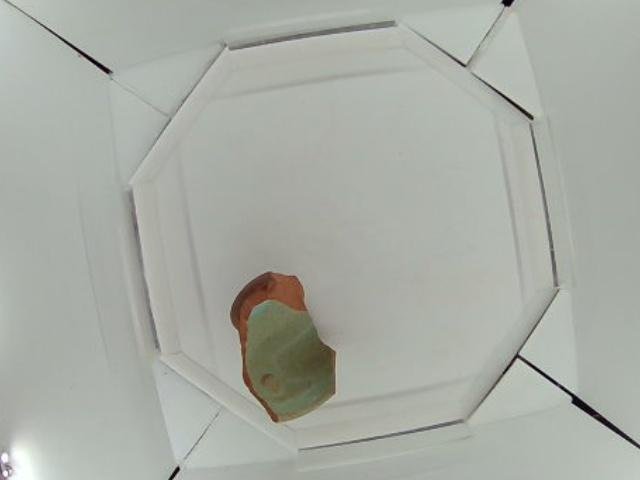China: (225, 269, 337, 425)
